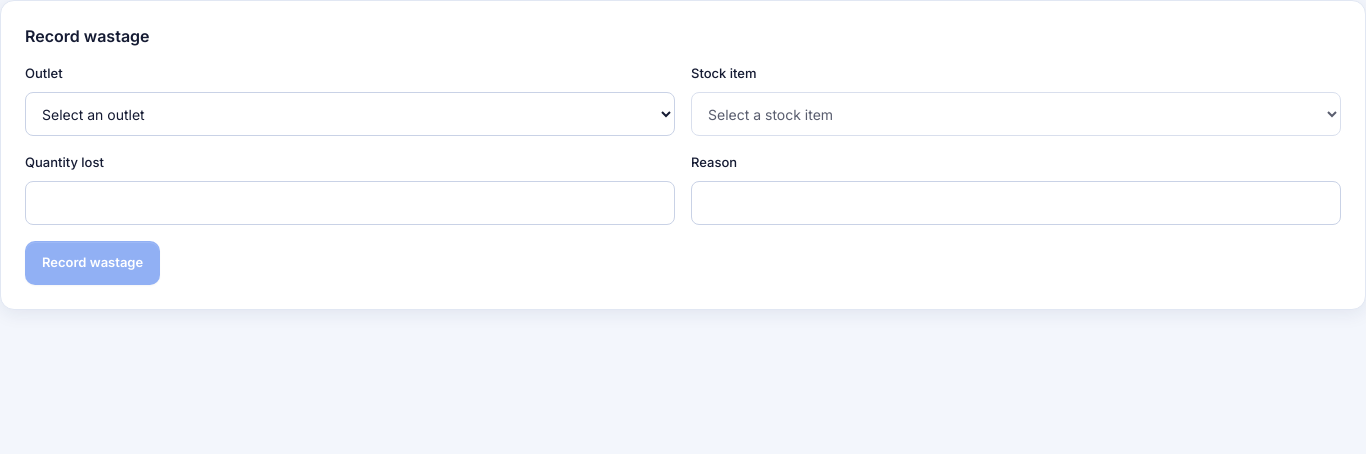
Test: <StockWastageTab> › a real reason submits the real wastage record and shows the resulting quantity on hand
Select "Main Bar" in the dropdown labelled "Outlet" at x=350, y=114, box top-left (25, 92), bottom-right (675, 136)
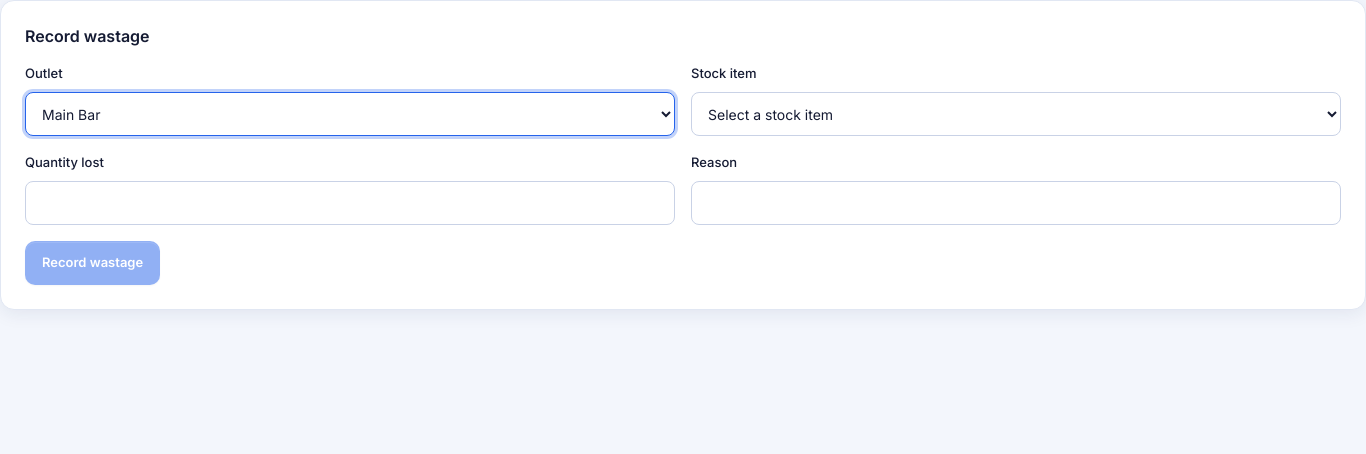
Select "Vodka (ml)" in the dropdown labelled "Stock item" at x=1016, y=114, box top-left (691, 92), bottom-right (1341, 136)
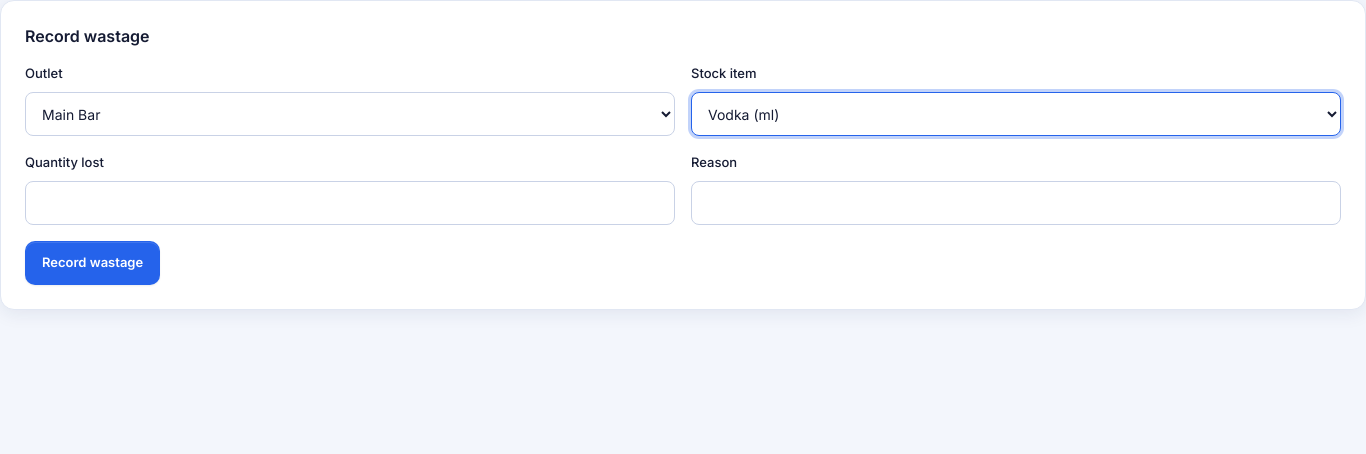
Type "2.5" into the number field labelled "Quantity lost" at x=350, y=203, box top-left (25, 181), bottom-right (675, 225)
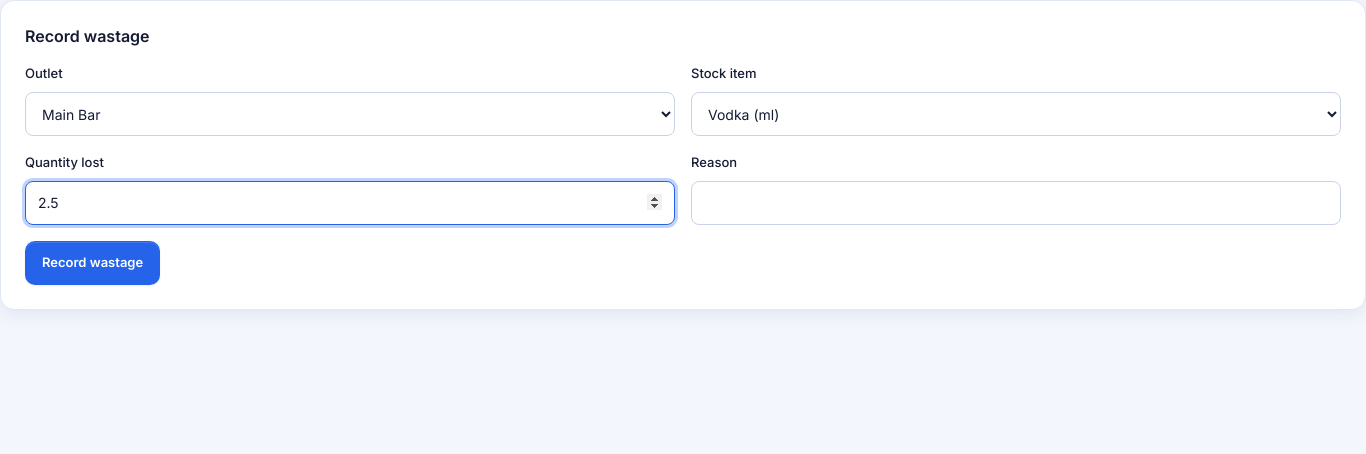
Type "Bottle dropped and broke" into the field labelled "Reason" at x=1016, y=203, box top-left (691, 181), bottom-right (1341, 225)
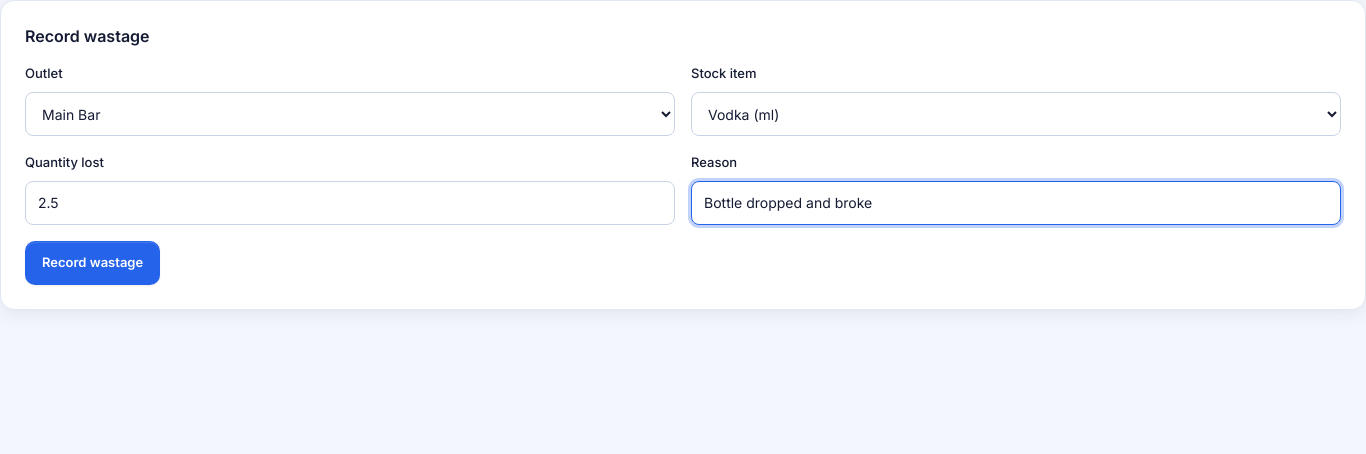
Click the button "Record wastage" at x=93, y=263, box top-left (25, 241), bottom-right (160, 285)
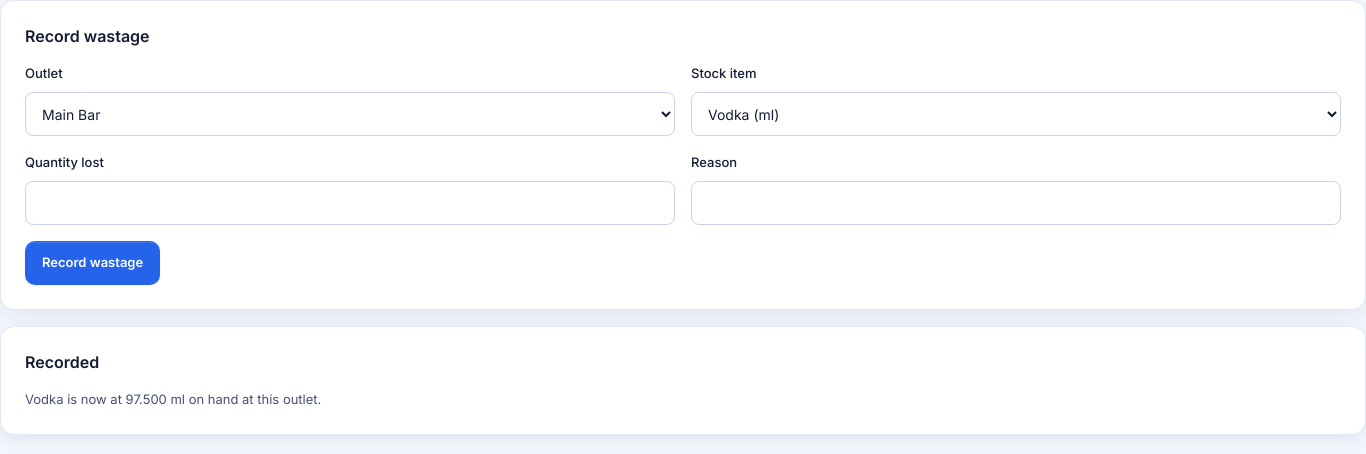
Result: the text "Vodka is now at 97.500 ml on hand at this outlet." is shown at top-left (25, 391), bottom-right (321, 407)
